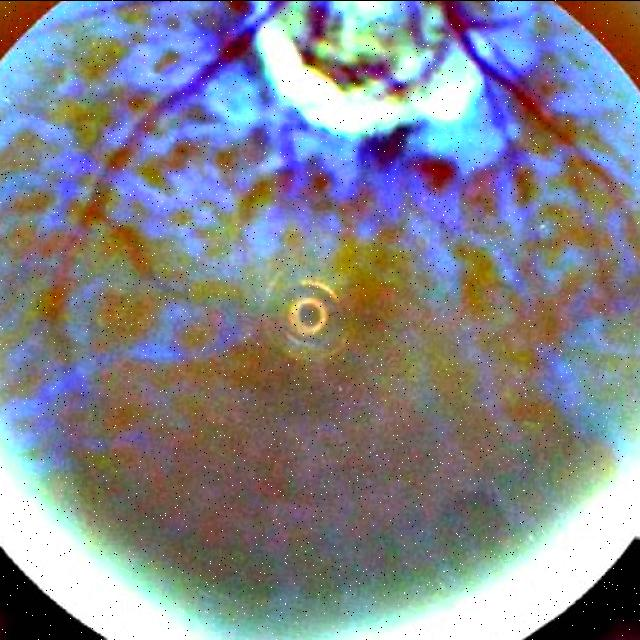Macula: (264, 257, 354, 366)
Nerves: (53, 0, 284, 369), (439, 0, 640, 242)
Optic Disk: (258, 0, 493, 135)
